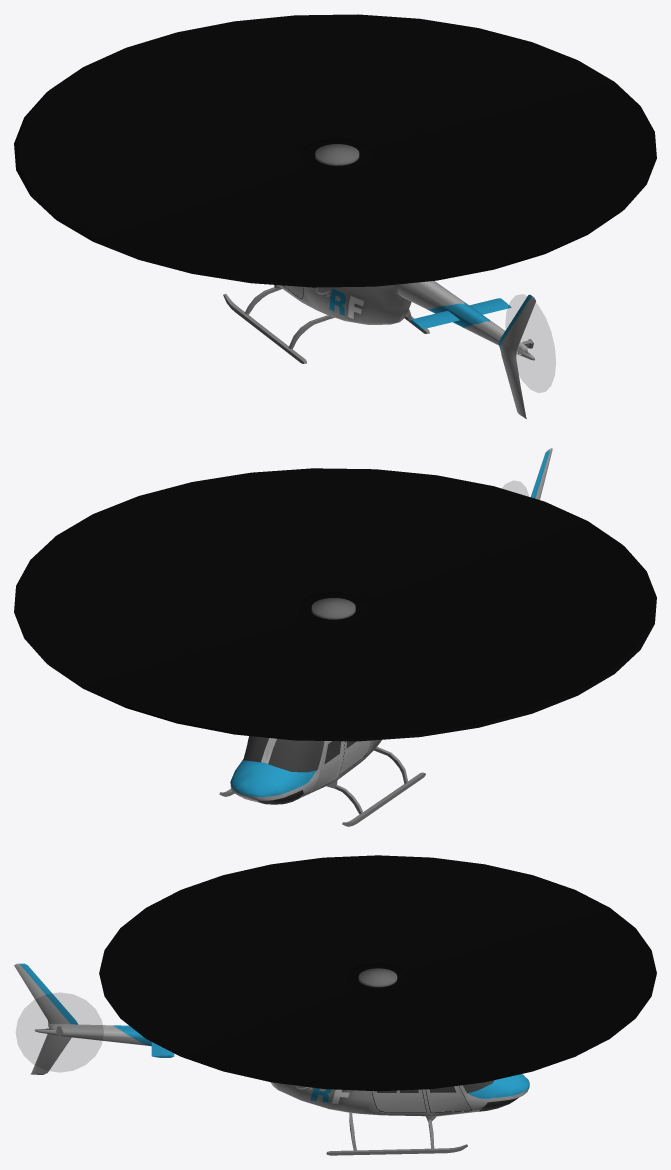
File: heli.glb
3 views of the same model, one above another, from view 1: azimuth 30°, elevation 25°; view 2: azimuth 150°, elevation 25°; view 3: azimuth 270°, elevation 25° (orthographic). The views are drawn at different scales.
Visible parts, largest first — view 1: Cone, Layer:0_Material #25_0.006, Cylinder.003, Cylinder.001, Layer:0__0, Cylinder.002; view 2: Cone, Layer:0_Material #25_0.006, Layer:0_01 - Default_0, Cylinder.001, Layer:0__0, Cylinder.002; view 3: Cone, Layer:0_Material #25_0.006, Cylinder.003, Cylinder.001, Layer:0__0, Layer:0_01 - Default_0, Cylinder.002.
Part boxes in pixels (left/top/right/bottom): Cone: left=14, top=14, right=656, bottom=287; Layer:0_Material #25_0.006: left=277, top=281, right=535, bottom=418; Cylinder.003: left=506, top=294, right=555, bottom=392; Cylinder.001: left=302, top=138, right=372, bottom=170; Layer:0__0: left=223, top=285, right=533, bottom=363; Cylinder.002: left=315, top=144, right=359, bottom=165; Cone: left=14, top=468, right=656, bottom=741; Layer:0_Material #25_0.006: left=230, top=448, right=552, bottom=803; Layer:0_01 - Default_0: left=243, top=736, right=356, bottom=804; Cylinder.001: left=298, top=592, right=368, bottom=624; Layer:0__0: left=219, top=746, right=425, bottom=826; Cylinder.002: left=311, top=598, right=355, bottom=619; Cone: left=99, top=855, right=656, bottom=1091; Layer:0_Material #25_0.006: left=14, top=963, right=529, bottom=1116; Cylinder.003: left=16, top=993, right=103, bottom=1071; Cylinder.001: left=347, top=963, right=408, bottom=991; Layer:0__0: left=56, top=1026, right=467, bottom=1155; Layer:0_01 - Default_0: left=377, top=1080, right=518, bottom=1111; Cylinder.002: left=358, top=968, right=397, bottom=987.
Bounding box in the file's own units: 156 × 49.41 × 179.
8 materials, 1 textured.
